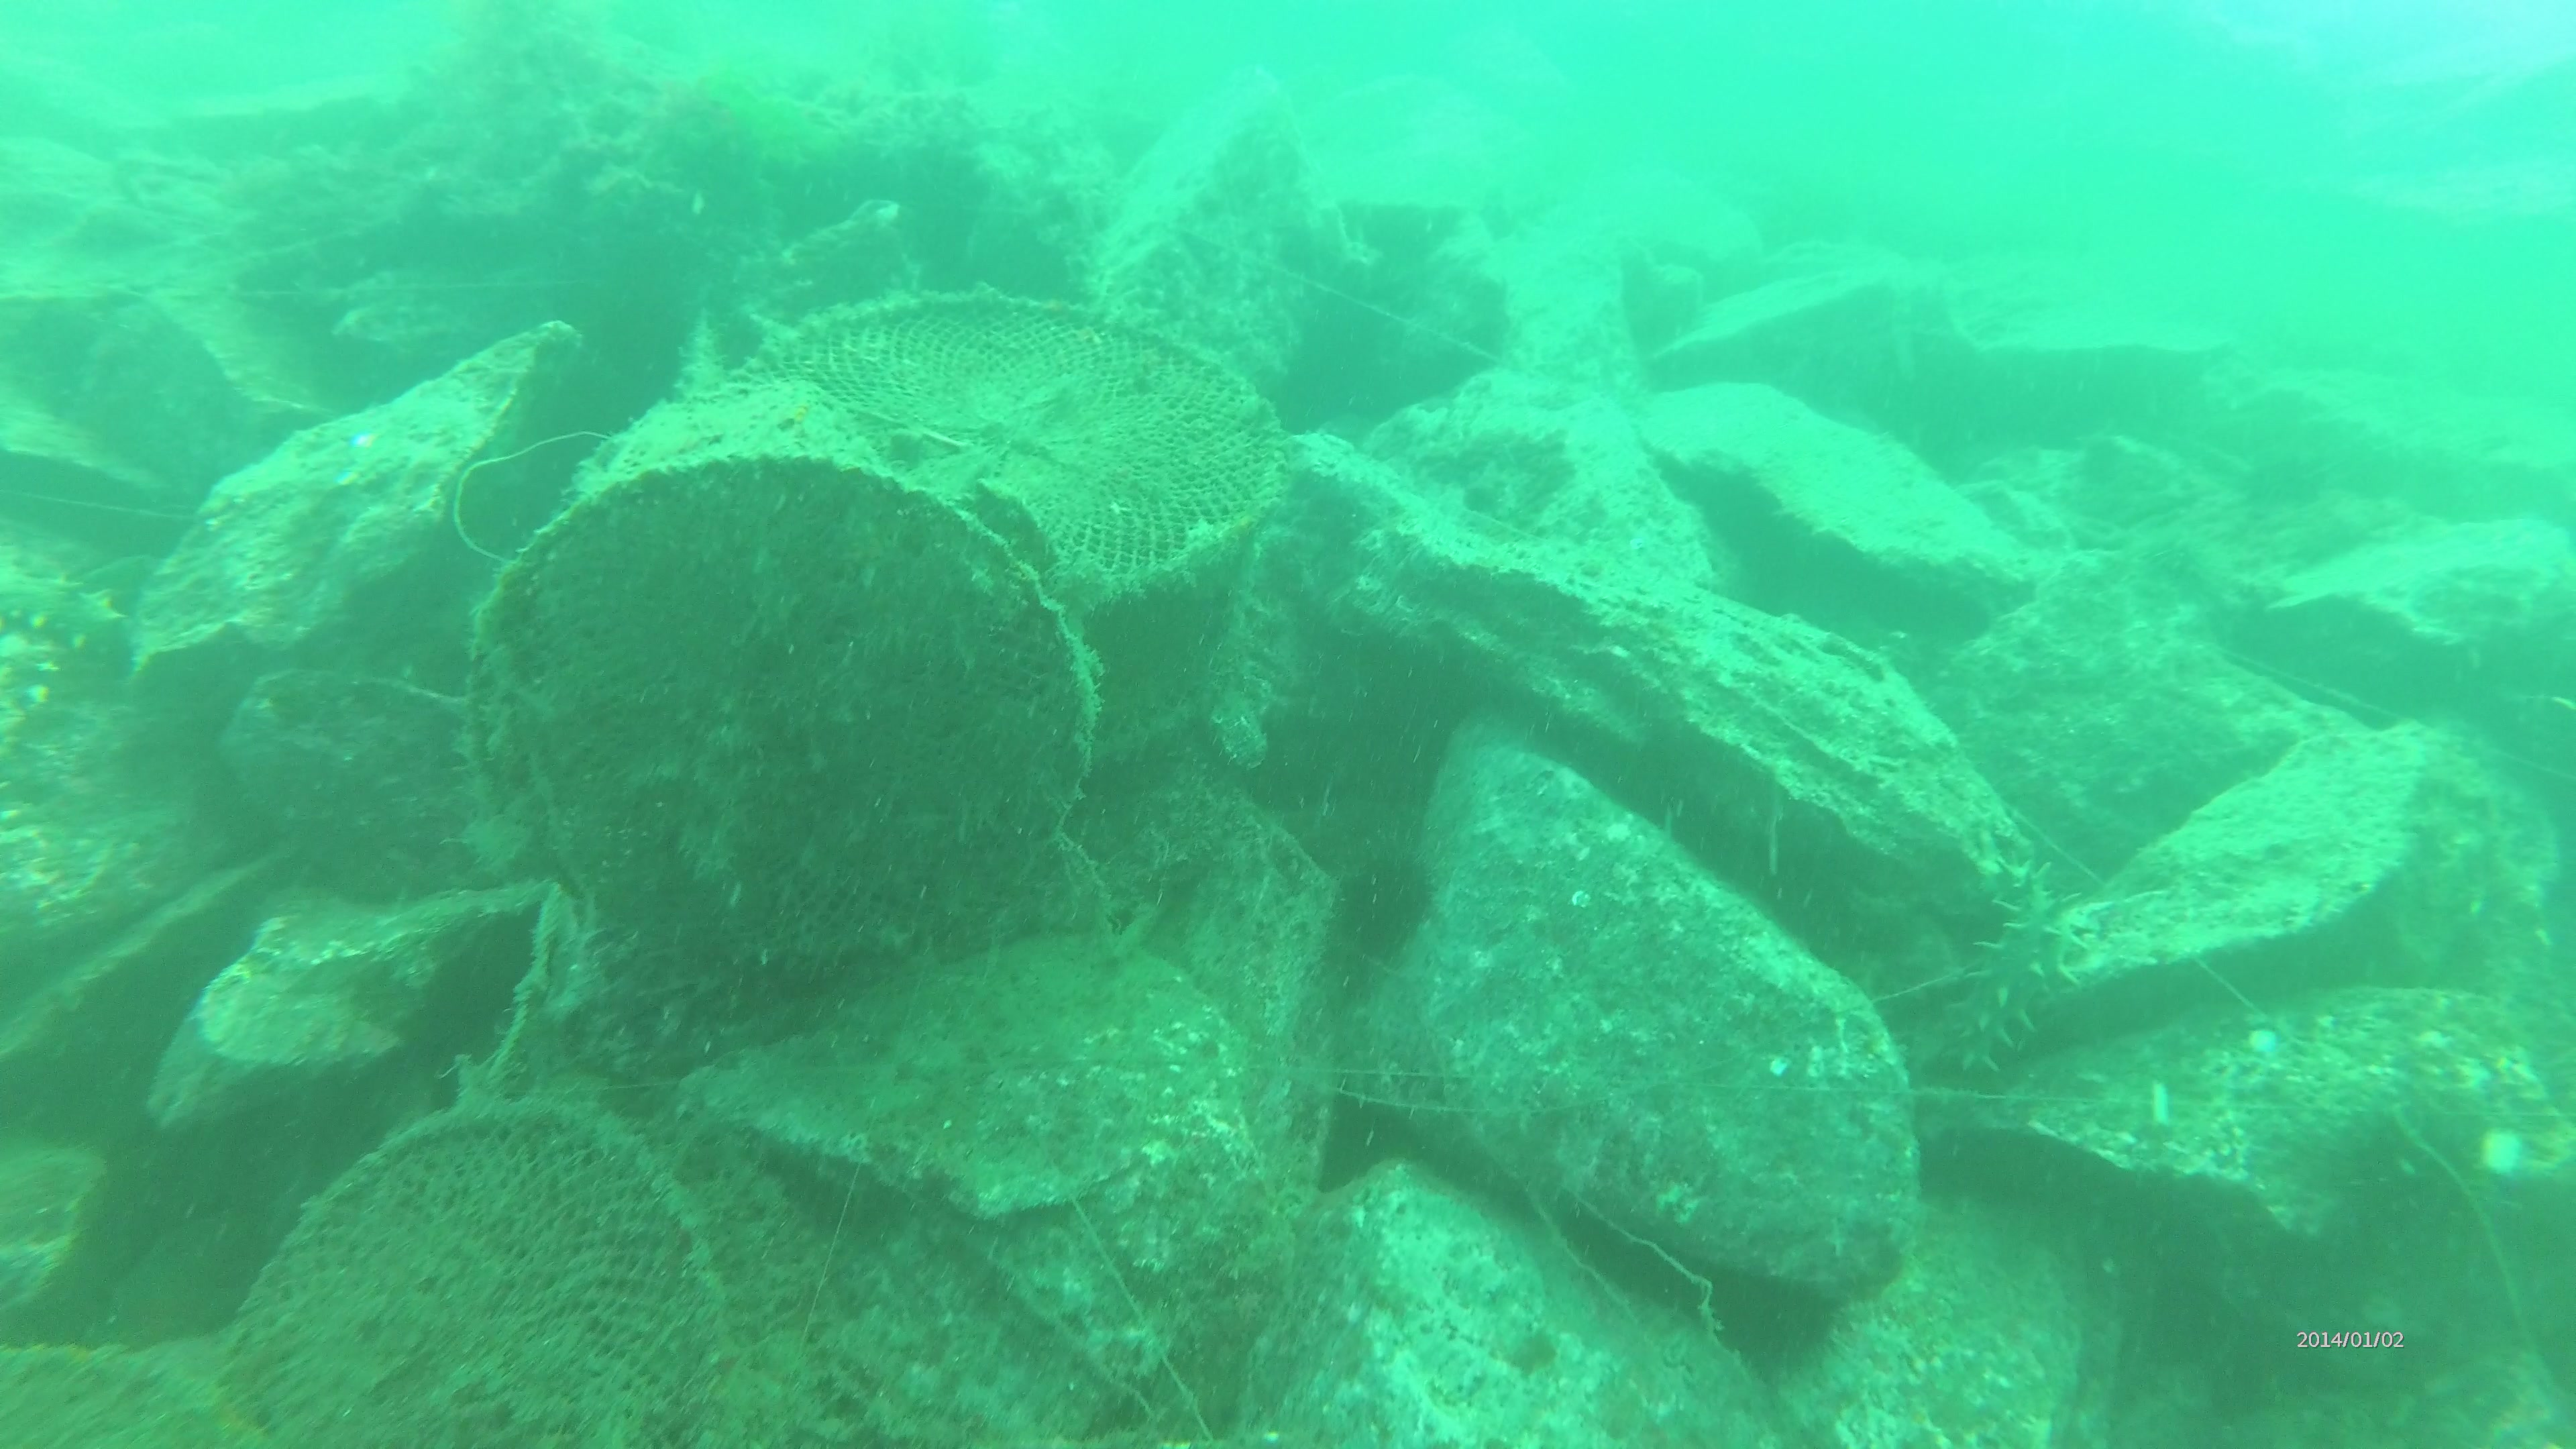echinus: (2125, 522, 2247, 628), (2220, 441, 2337, 529)
holothurian: (1937, 885, 2081, 1077), (0, 557, 145, 663)
